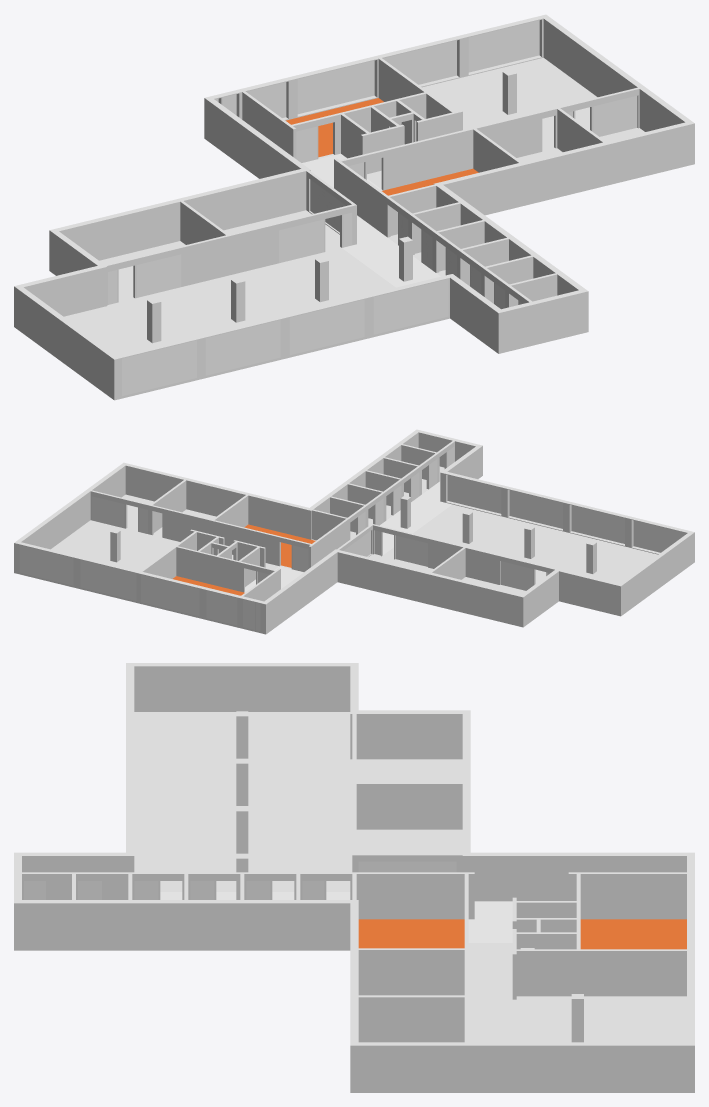
File: CRTA_mesh.dae
3 renders of one model, top to bottom at view 1: azimuth 30°, elevation 25°; view 2: azimuth 150°, elevation 25°; view 3: azimuth 270°, elevation 25°, orthographic. The views are drawn at different scales.
Visible parts, largest first — view 1: CRTA_zgrada_v1 (×18); view 2: CRTA_zgrada_v1 (×18); view 3: CRTA_zgrada_v1 (×5).
Part boxes in pixels (x1=…): CRTA_zgrada_v1 (×18): x1=14, y1=14, x2=694, y2=400; CRTA_zgrada_v1 (×18): x1=14, y1=429, x2=694, y2=634; CRTA_zgrada_v1 (×5): x1=14, y1=663, x2=694, y2=1092.
Bounding box in the file's own units: 45200 × 34000 × 2600.
